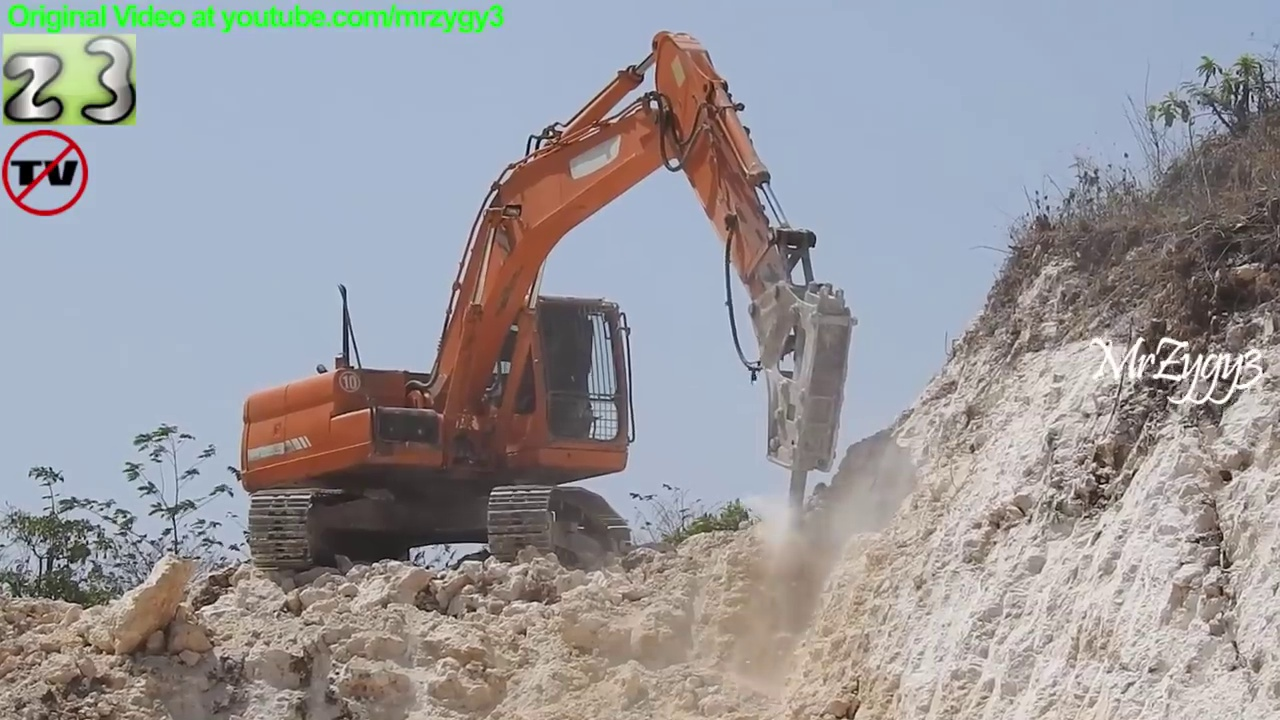excavator breaker: (234, 26, 867, 586)
